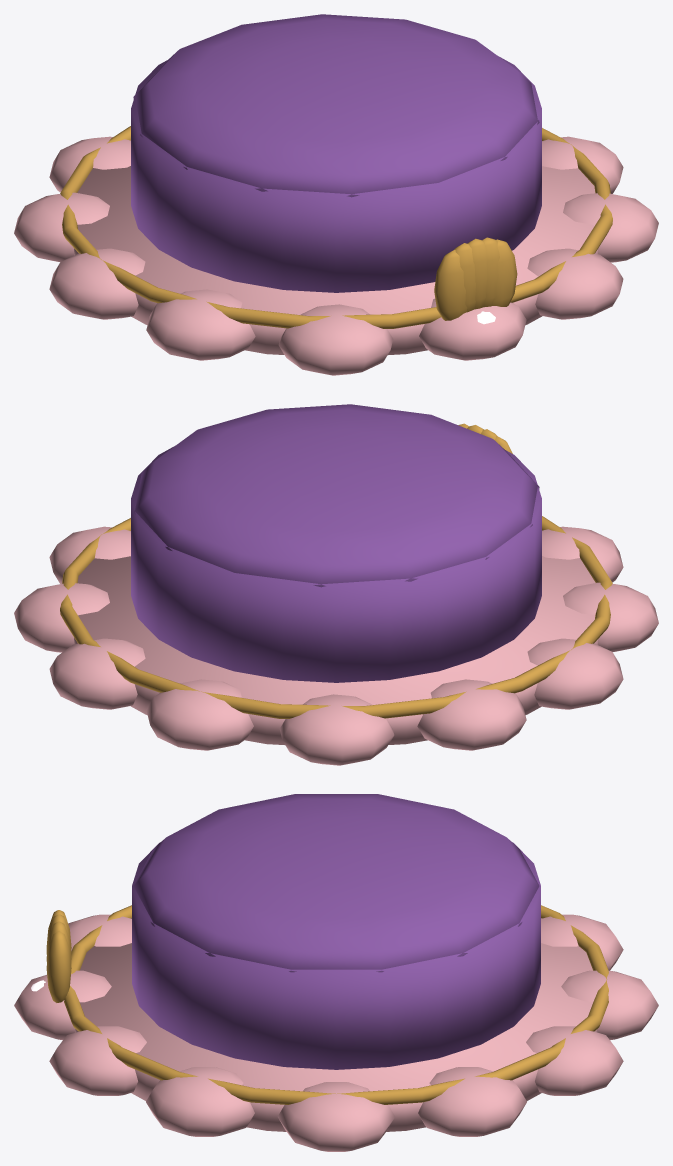
File: opera_pastry_chef_layer_plum.glb
The picture shows the model from 3 angles, top to bottom: view 1: azimuth 30°, elevation 25°; view 2: azimuth 150°, elevation 25°; view 3: azimuth 270°, elevation 25°; orthographic projection.
Visible parts, largest first — view 1: VisualMesh.002; view 2: VisualMesh.002; view 3: VisualMesh.002.
Boxes of the visible parts, x1,y1,x2,y2 form: VisualMesh.002: (14, 14, 658, 375); VisualMesh.002: (14, 404, 658, 765); VisualMesh.002: (14, 794, 658, 1151).
Size of the model in its own units: 3.69 by 1.18 by 3.72.
